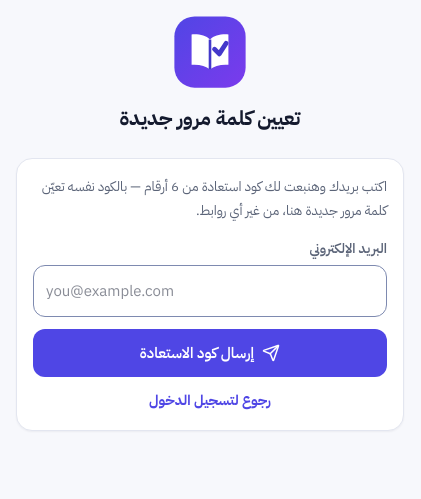
Test: ResetPasswordPage — تحقق البريد بالعربية بدل فقاعات المتصفح (3A-911) › طلب الكود بلا بريد: رسالة عربية ولا يُطلب الكود
Click the button "إرسال كود الاستعادة".
click(210, 353)  # box [33, 329, 387, 377]
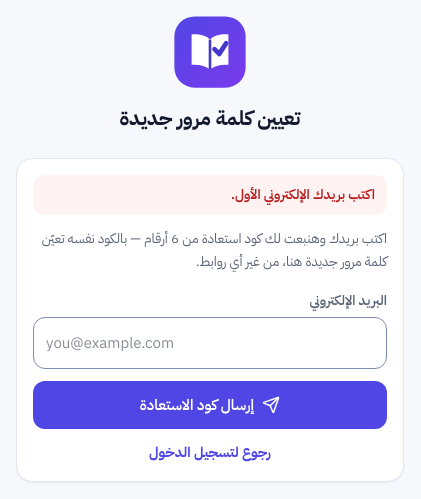
Now the message shows "اكتب بريدك الإلكتروني الأول", box [231, 184, 375, 205]
